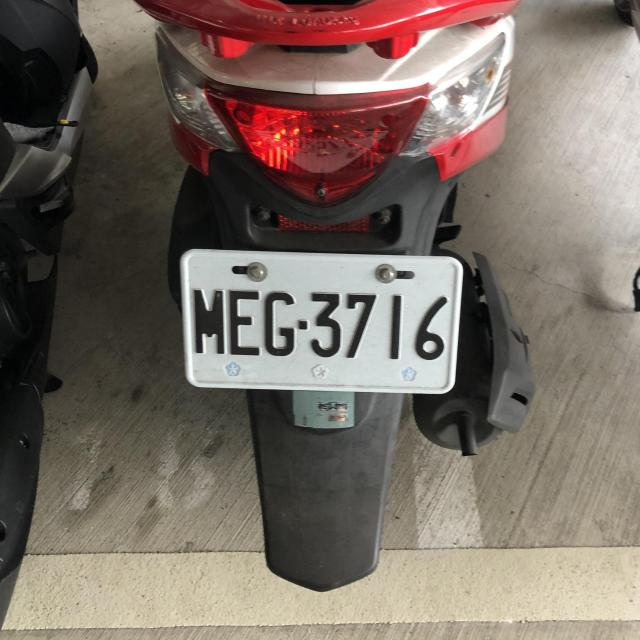W: (177, 248, 460, 394)
